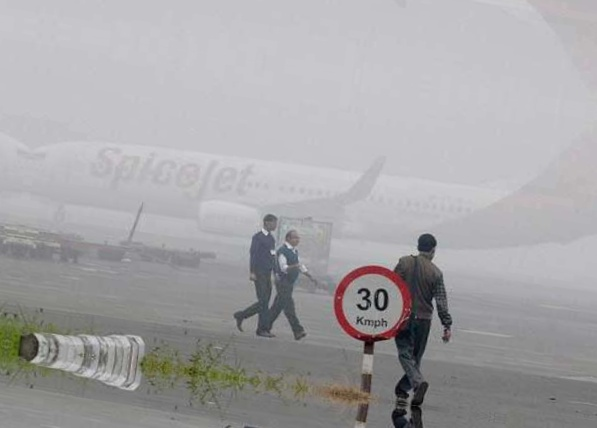Speed limit: (331, 265, 409, 343)
